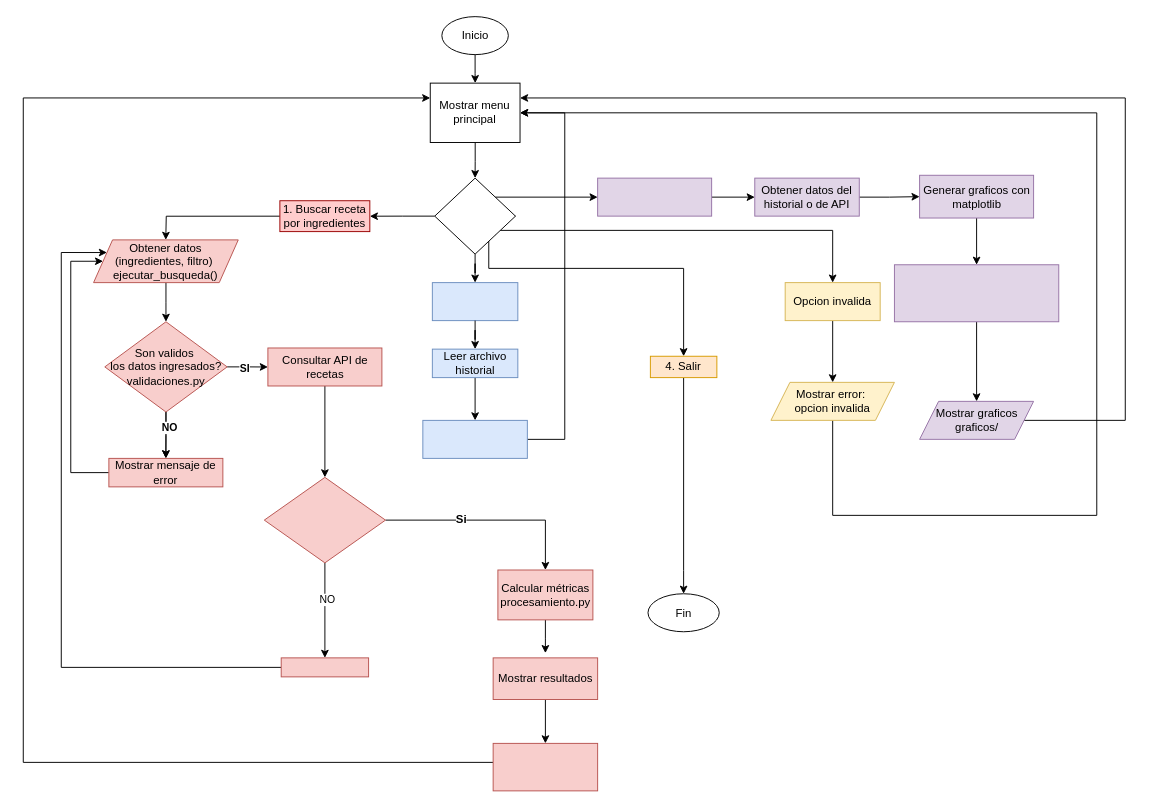
The diagram is 1150 pixels wide and 808 high, and some of its shapes have lost their labels. Here are the shapes that lost their labels. From the top down, the centre of each, then its label:
point (474, 215): Elegir una opcion:
point (654, 196): 3. Mostrar graficos/ resumen
point (474, 301): 2. Ver Historial de busquedas
point (976, 293): Guardar graficos gráficos_generados .png
point (474, 438): Mostrar historial de busqueda
point (324, 519): Hay recetas que coincidan?
point (324, 667): Mostrar error
point (545, 766): Guardar busqueda y resultados en historial
